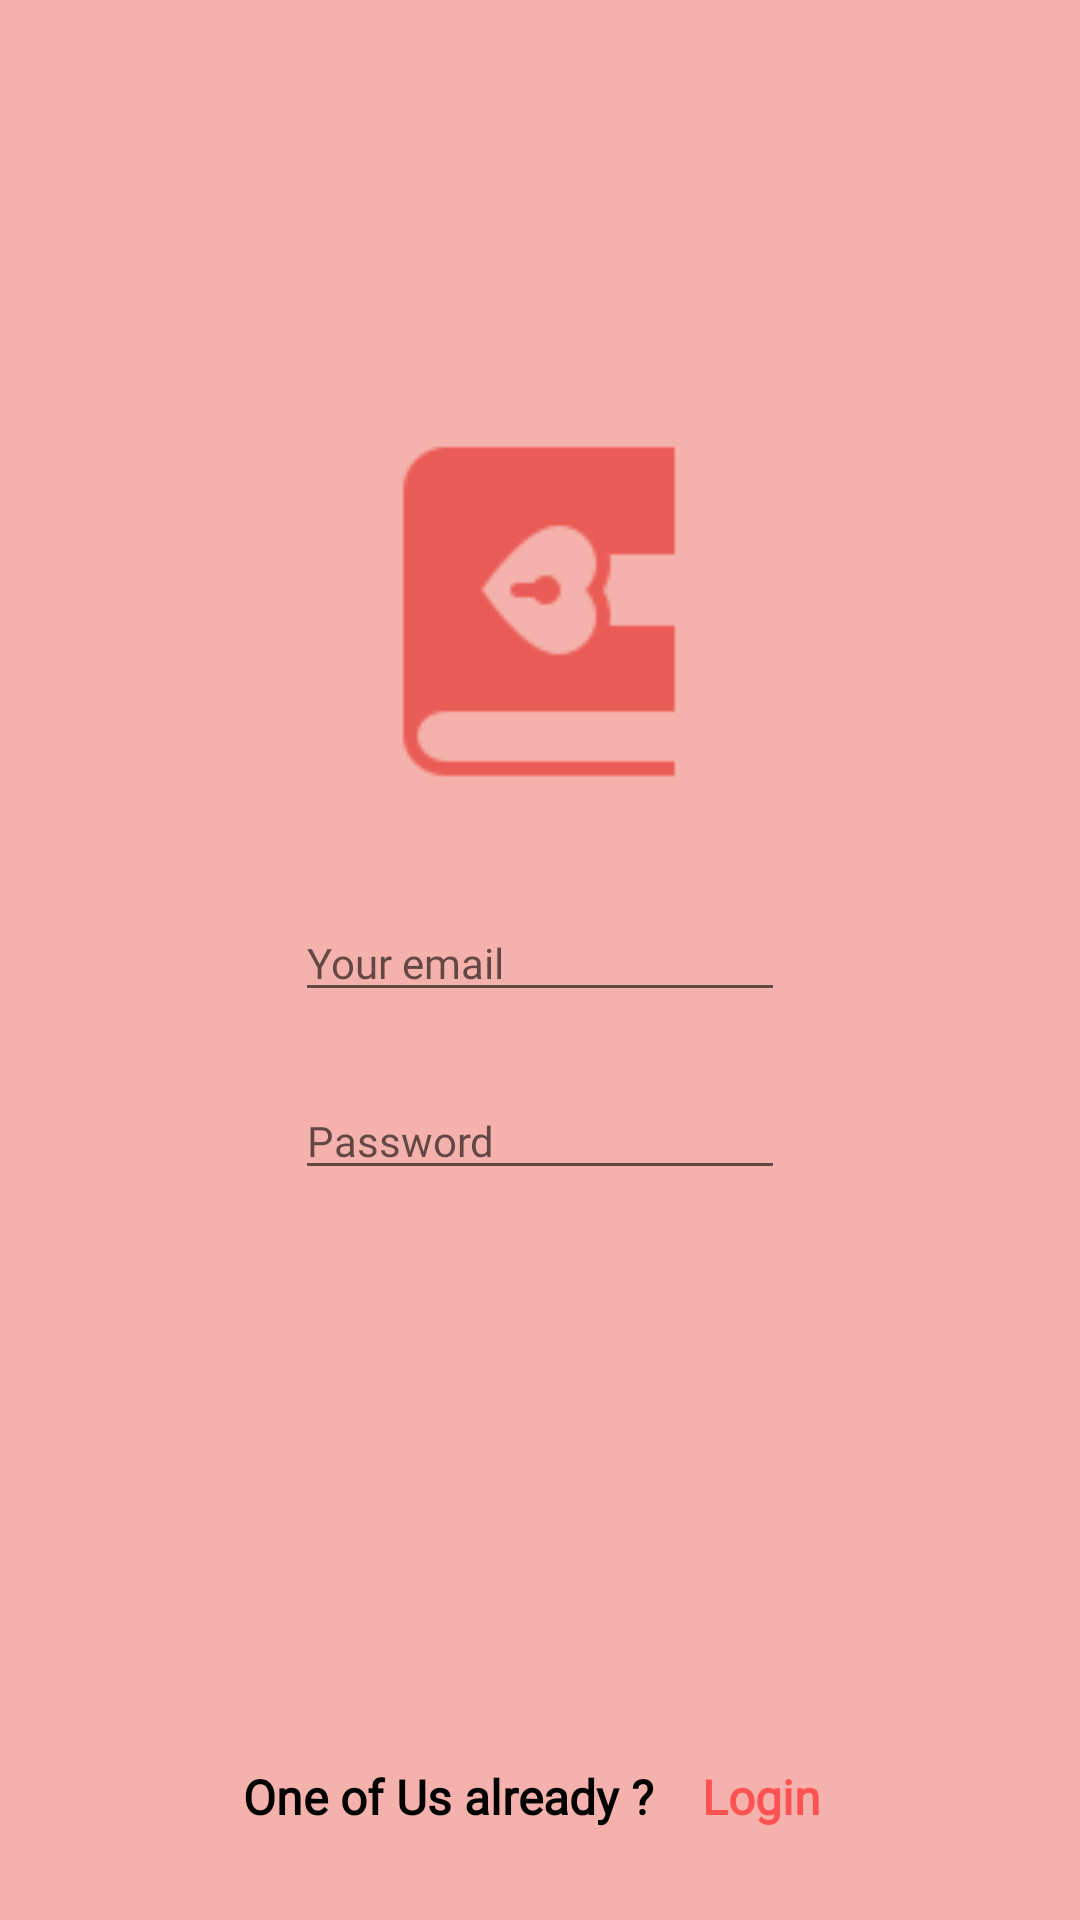

Screen size 1080 × 1920. Icon name, then its box in pixels as (x1, y1, x2, y2):
diary: (403, 446, 675, 777)
